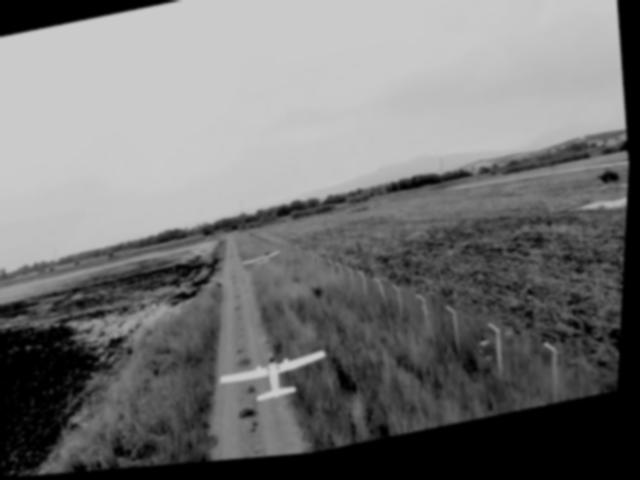hedef: (219, 344, 342, 420)
